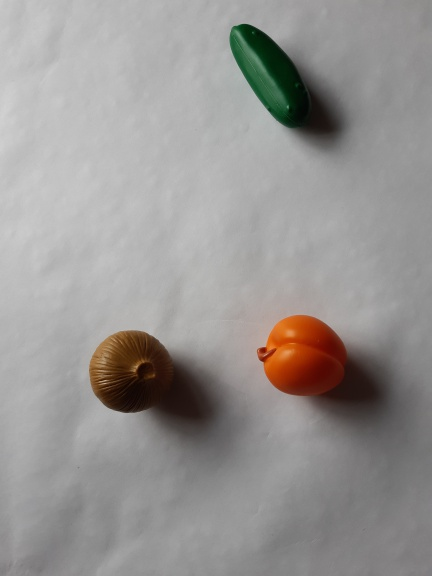apricot: (248, 303, 352, 401)
cucumber: (217, 12, 315, 135)
onion: (80, 324, 176, 419)
